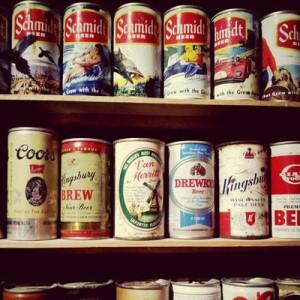beer: (7, 2, 300, 242)
